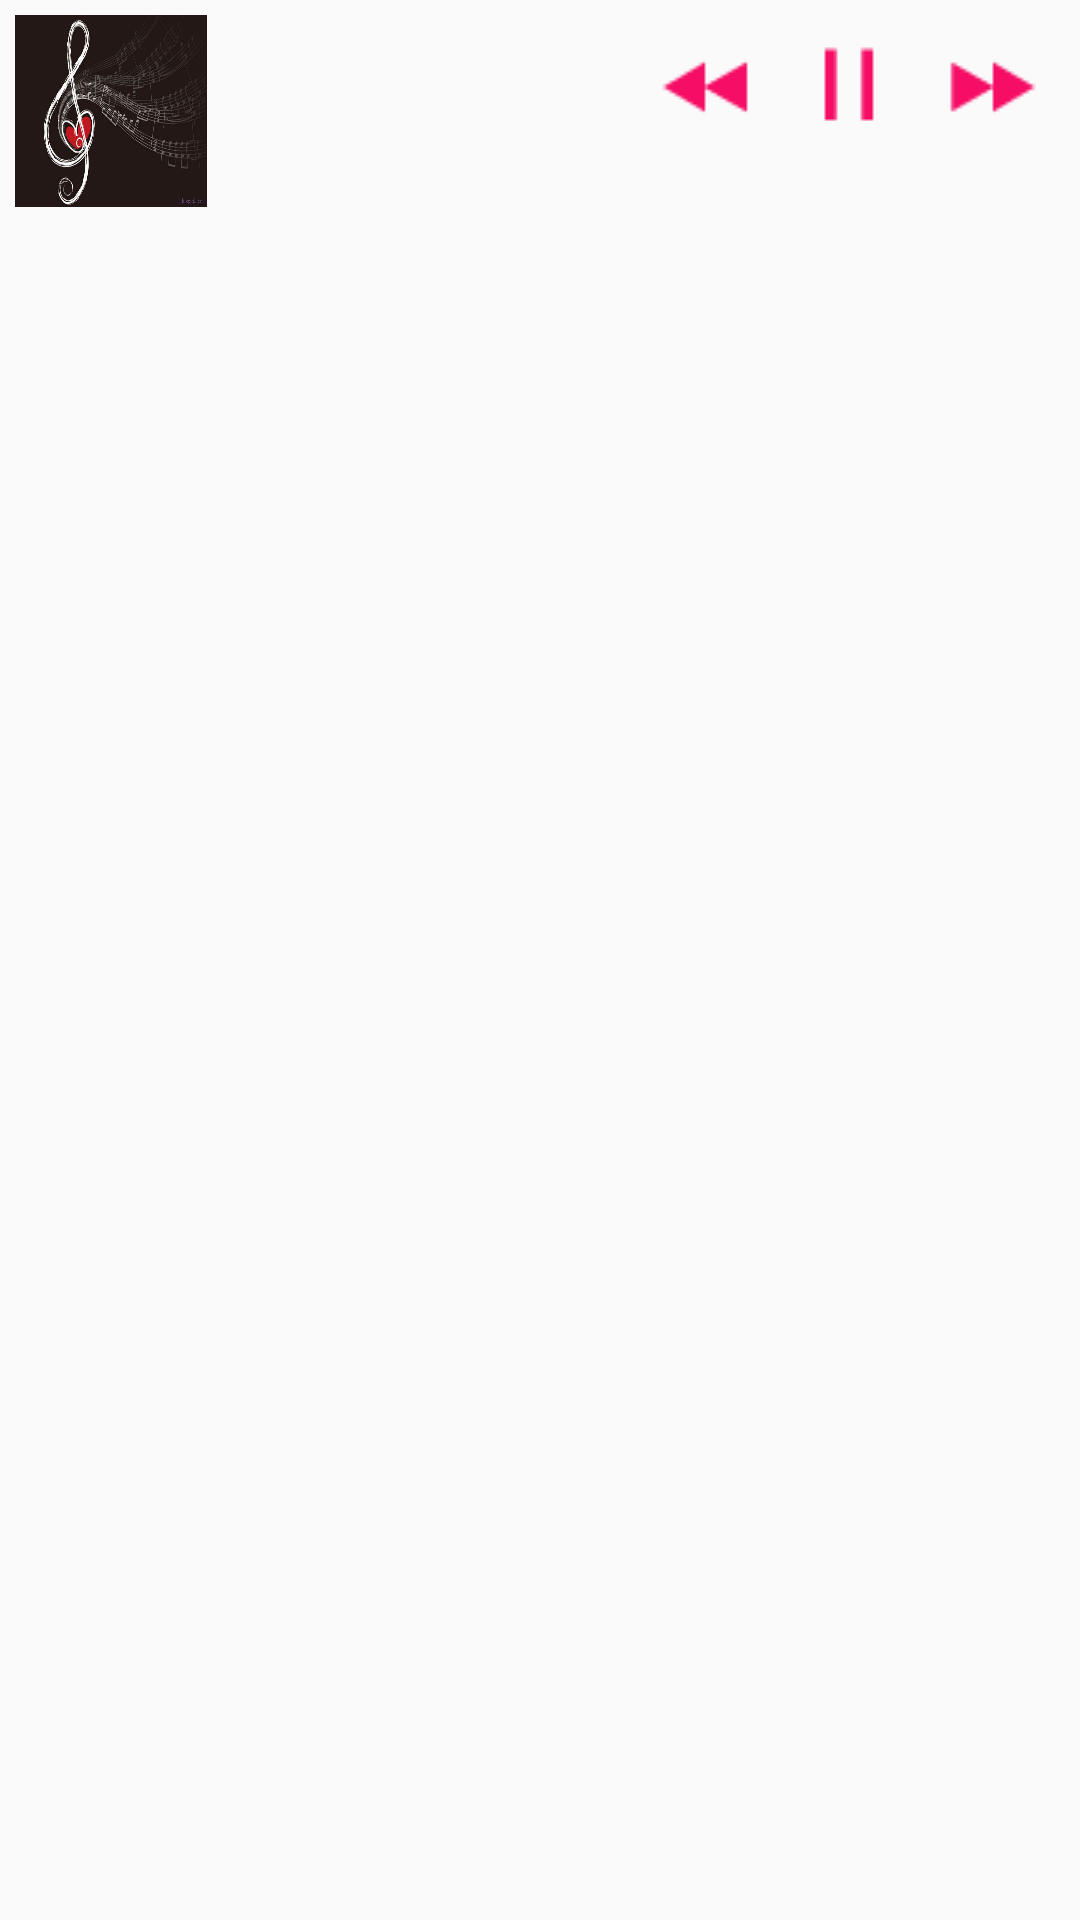

Where icons sit on this 1080*1920 app screen, as {"x1": x1, "y1": y1, "x2": x2, "y2": y2}:
last: {"x1": 663, "y1": 62, "x2": 748, "y2": 112}
next: {"x1": 950, "y1": 62, "x2": 1035, "y2": 112}
playsong: {"x1": 824, "y1": 47, "x2": 874, "y2": 121}
